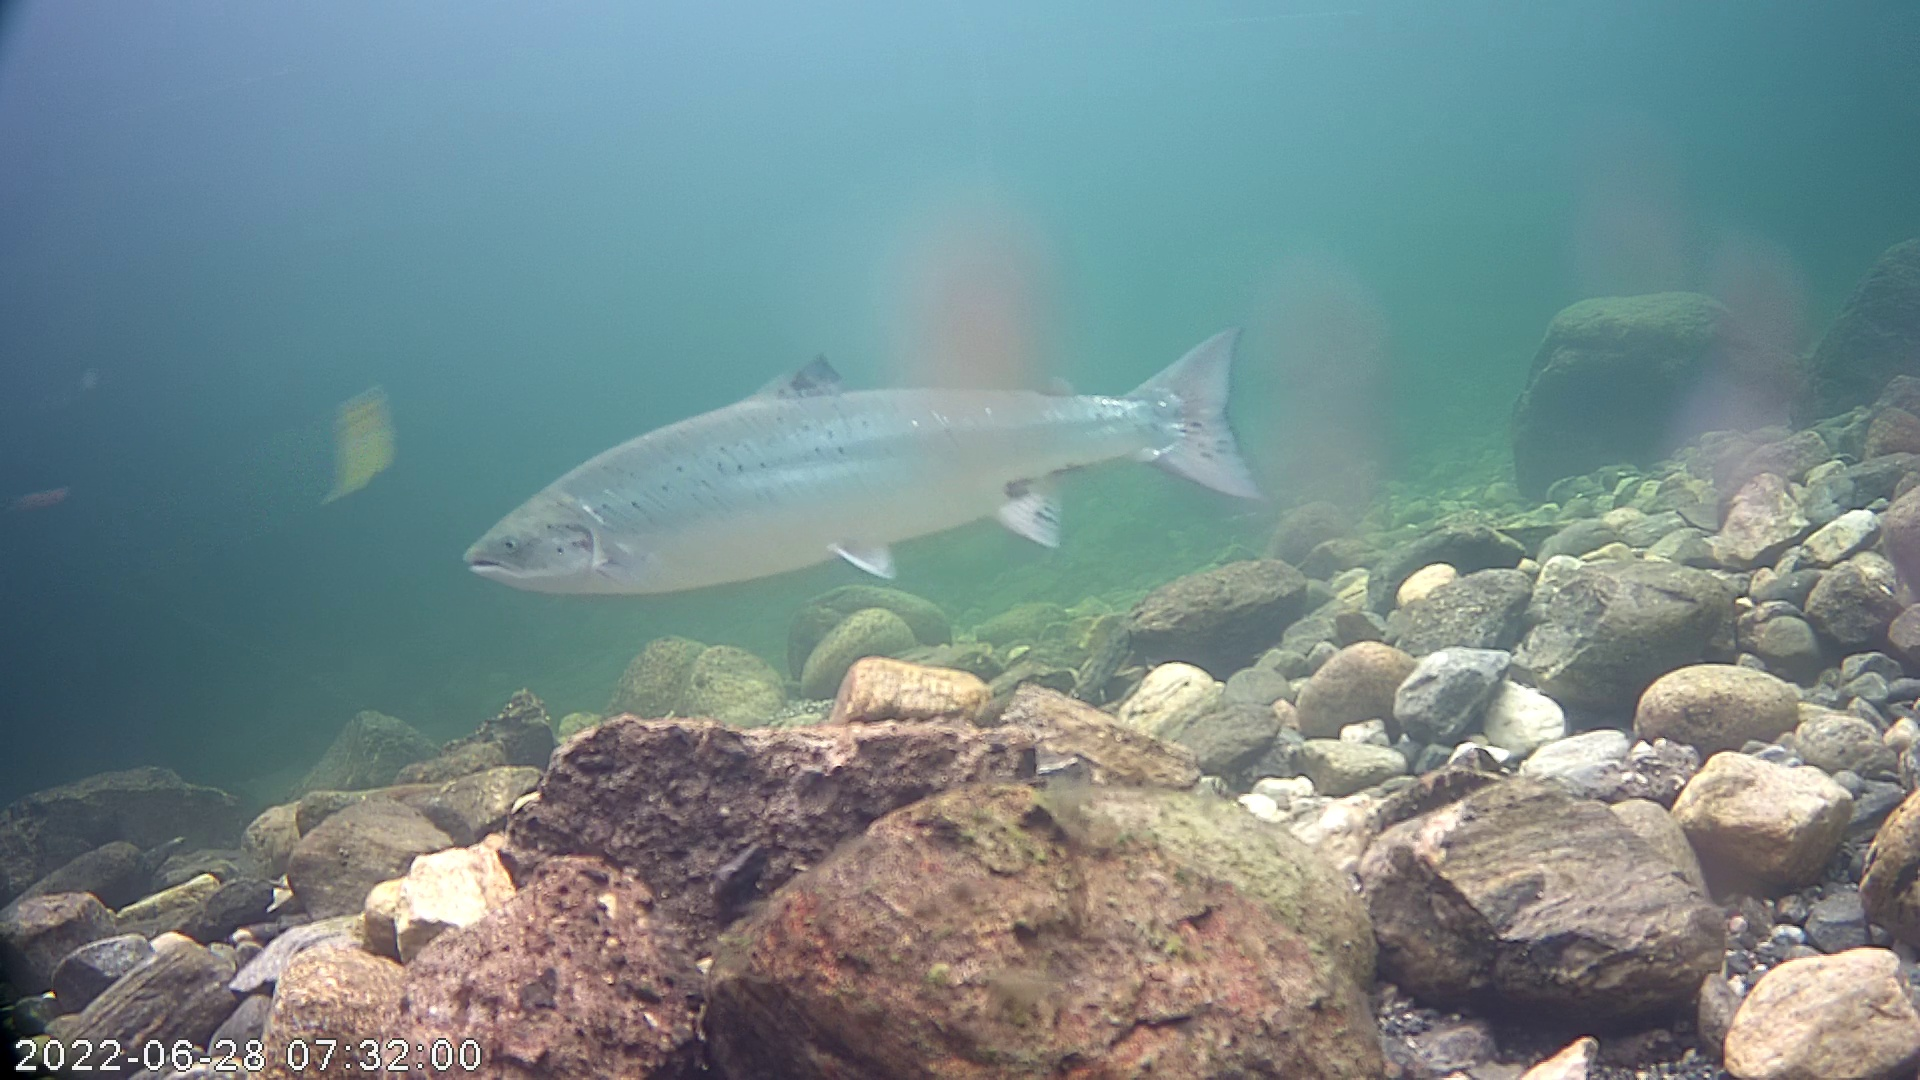salmon: (455, 229, 1302, 651)
